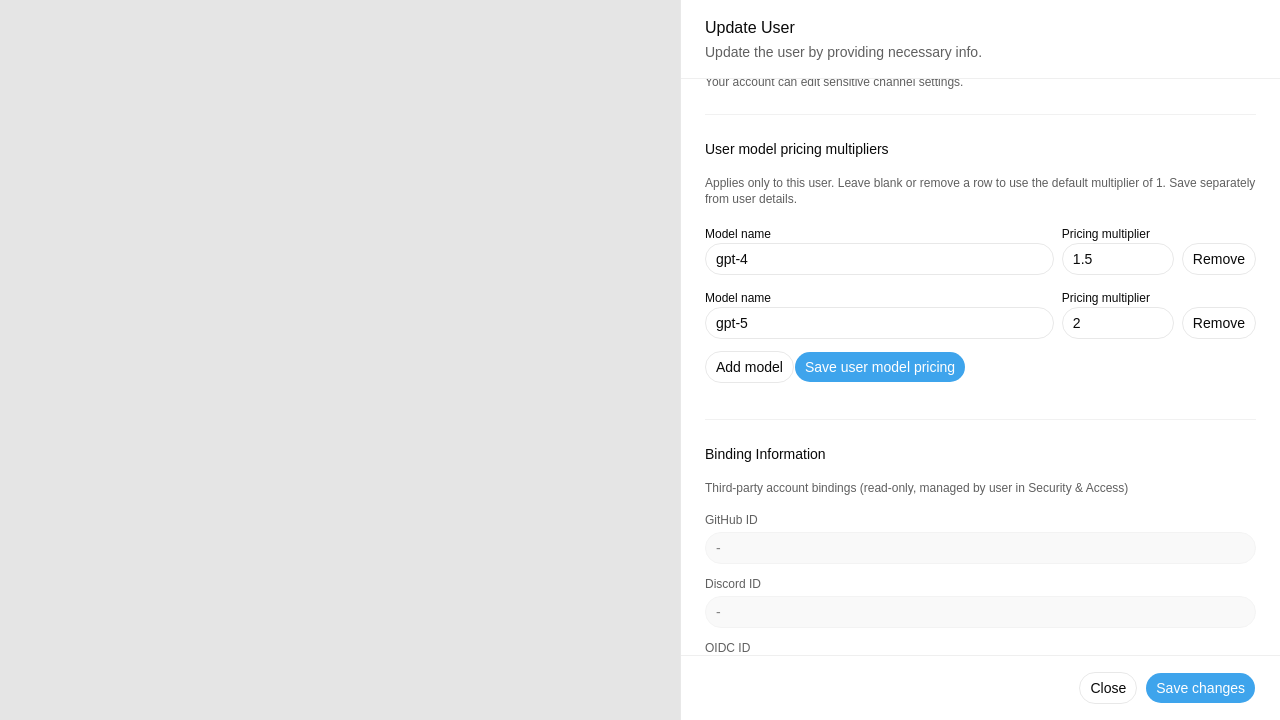
Test case: keeps user pricing edits and displays backend save failures
(page scrolled)
Check: the 1st field showing "1.5" is shown, box [1062, 243, 1174, 275]
Click the button "Save user model pricing".
click(880, 367)  # box [794, 351, 966, 383]
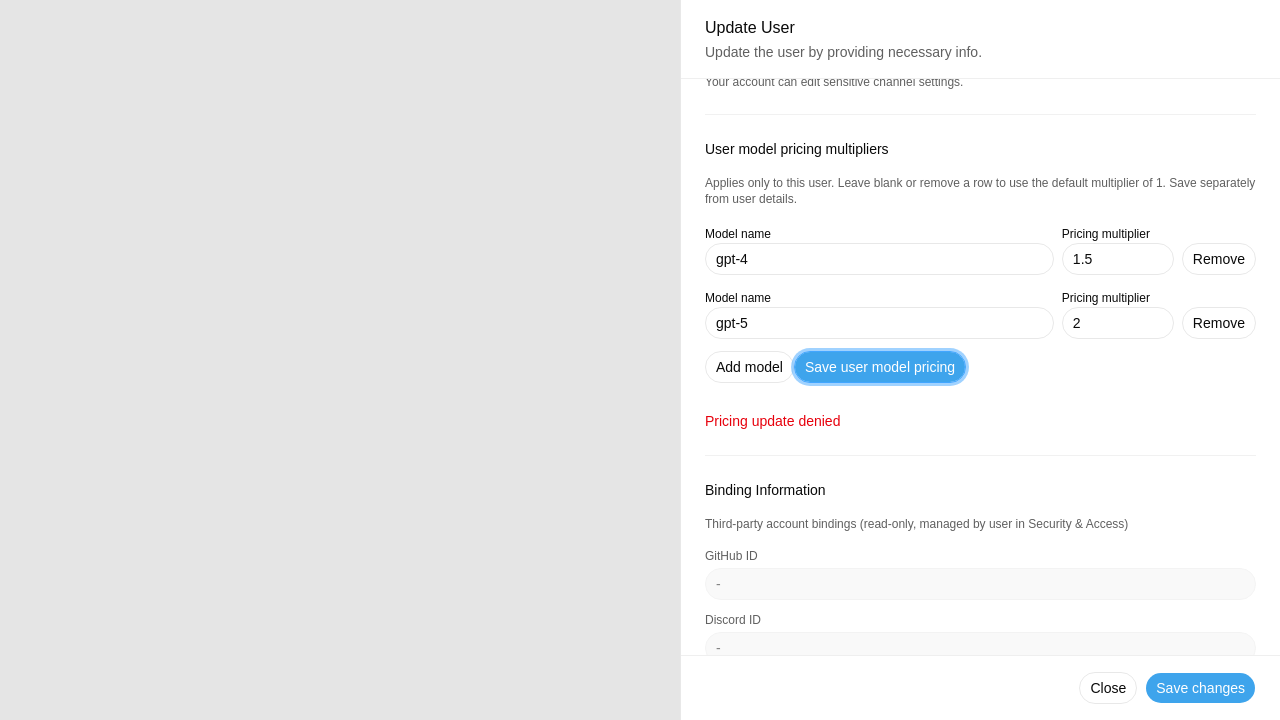
Check: the 1st field showing "1.5" is shown, box [1062, 243, 1174, 275]
Check: the message reads "Pricing update denied", box [705, 413, 840, 429]
